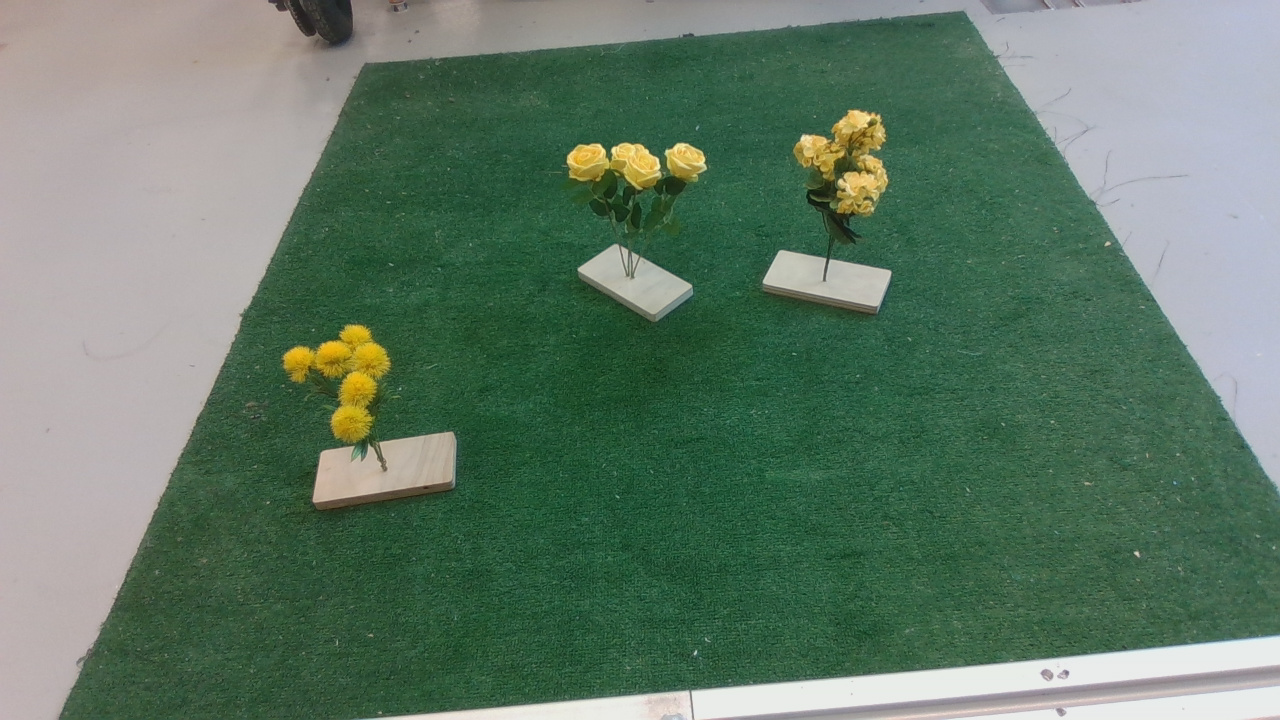dandelion: (269, 320, 407, 466)
geranium: (787, 101, 909, 249)
rose: (566, 134, 716, 245)
